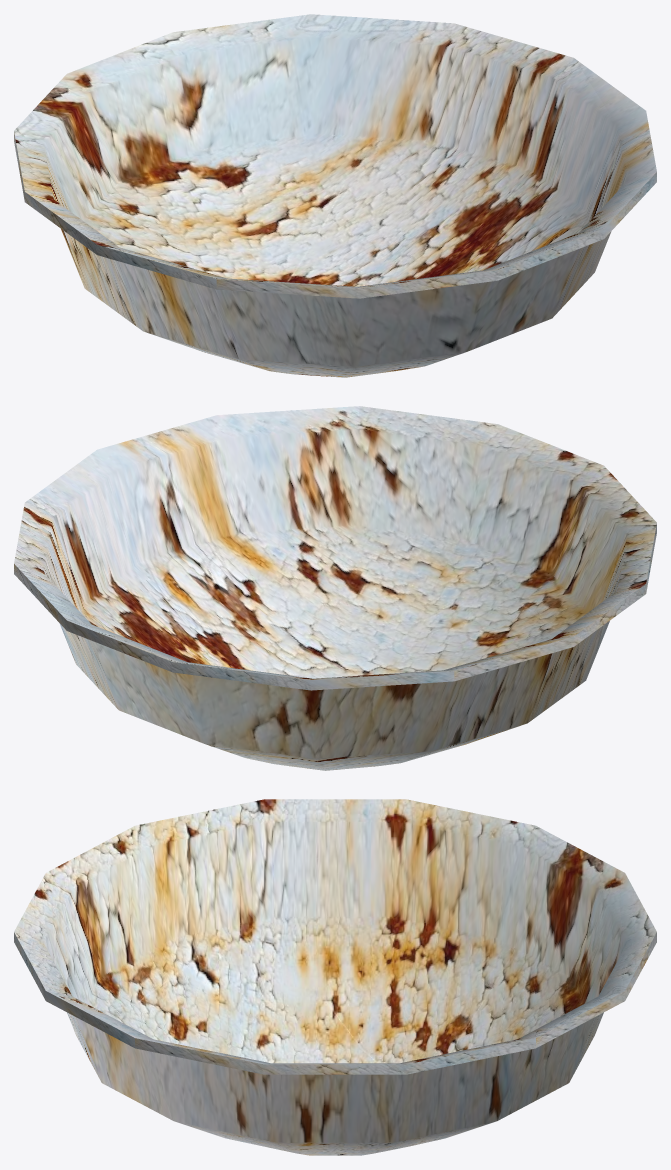
Rendered from MISKA.fbx.
The picture shows the model from 3 angles, top to bottom: view 1: azimuth 30°, elevation 25°; view 2: azimuth 150°, elevation 25°; view 3: azimuth 270°, elevation 25°; orthographic projection.
Visible parts, largest first — view 1: MISKA; view 2: MISKA; view 3: MISKA.
Part boxes in pixels (x1,y1,x2,y2): MISKA: (14, 14, 656, 377); MISKA: (14, 406, 656, 770); MISKA: (14, 799, 656, 1155).
Size of the model in its own units: 183 by 62.6 by 188.
Materials: 1 (1 with a texture image).
